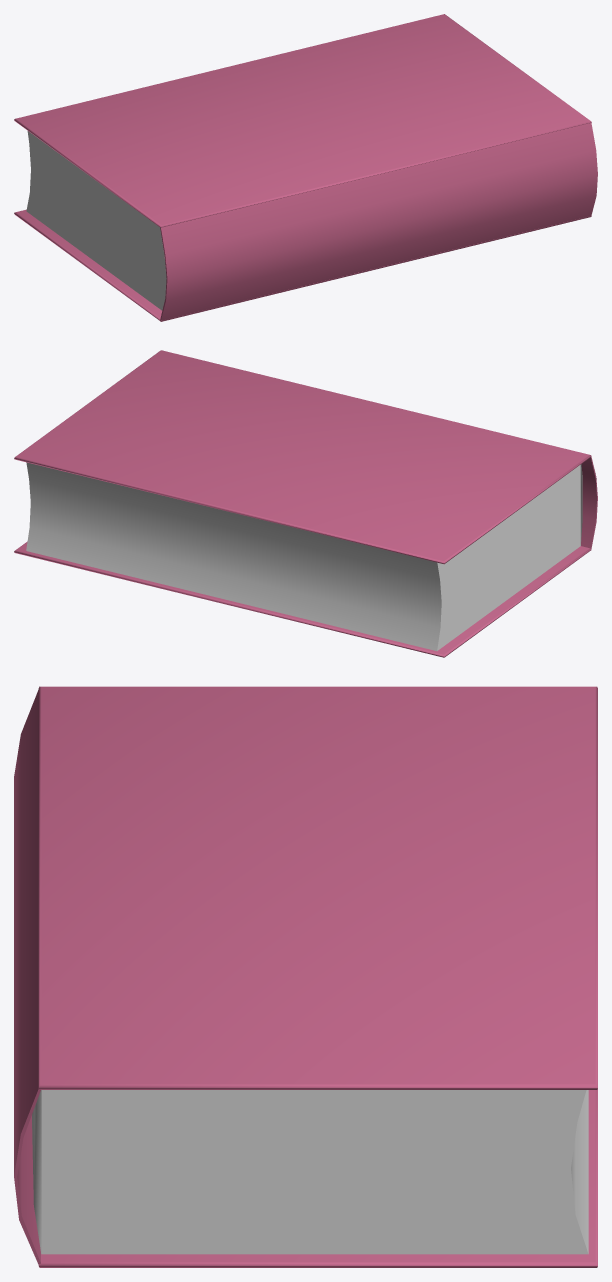
The model's file is Book.fbx.
3 renders of one model, top to bottom at view 1: azimuth 30°, elevation 25°; view 2: azimuth 150°, elevation 25°; view 3: azimuth 270°, elevation 25°, orthographic. The views are drawn at different scales.
Visible parts, largest first — view 1: Book; view 2: Book; view 3: Book.
Boxes of the visible parts, x1,y1,x2,y2 form: Book: (14, 14, 597, 321); Book: (14, 350, 597, 657); Book: (14, 686, 597, 1267).
Size of the model in its own units: 1761 by 377 by 1086.
